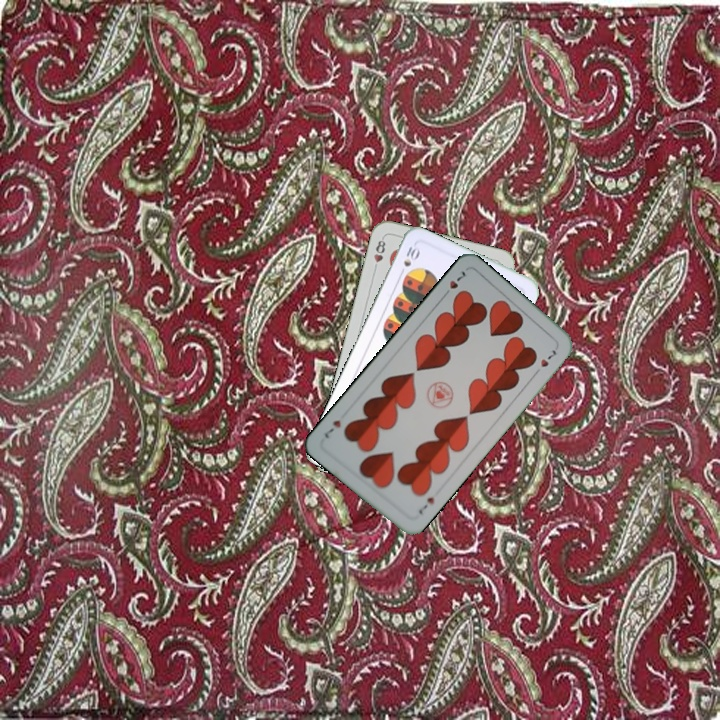H7: (439, 266, 468, 300), (414, 493, 437, 517)
H8: (370, 234, 388, 274)
S10: (399, 240, 422, 269)
